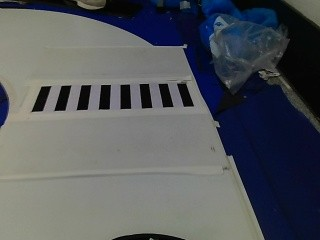crosswalk: (30, 77, 197, 113)
